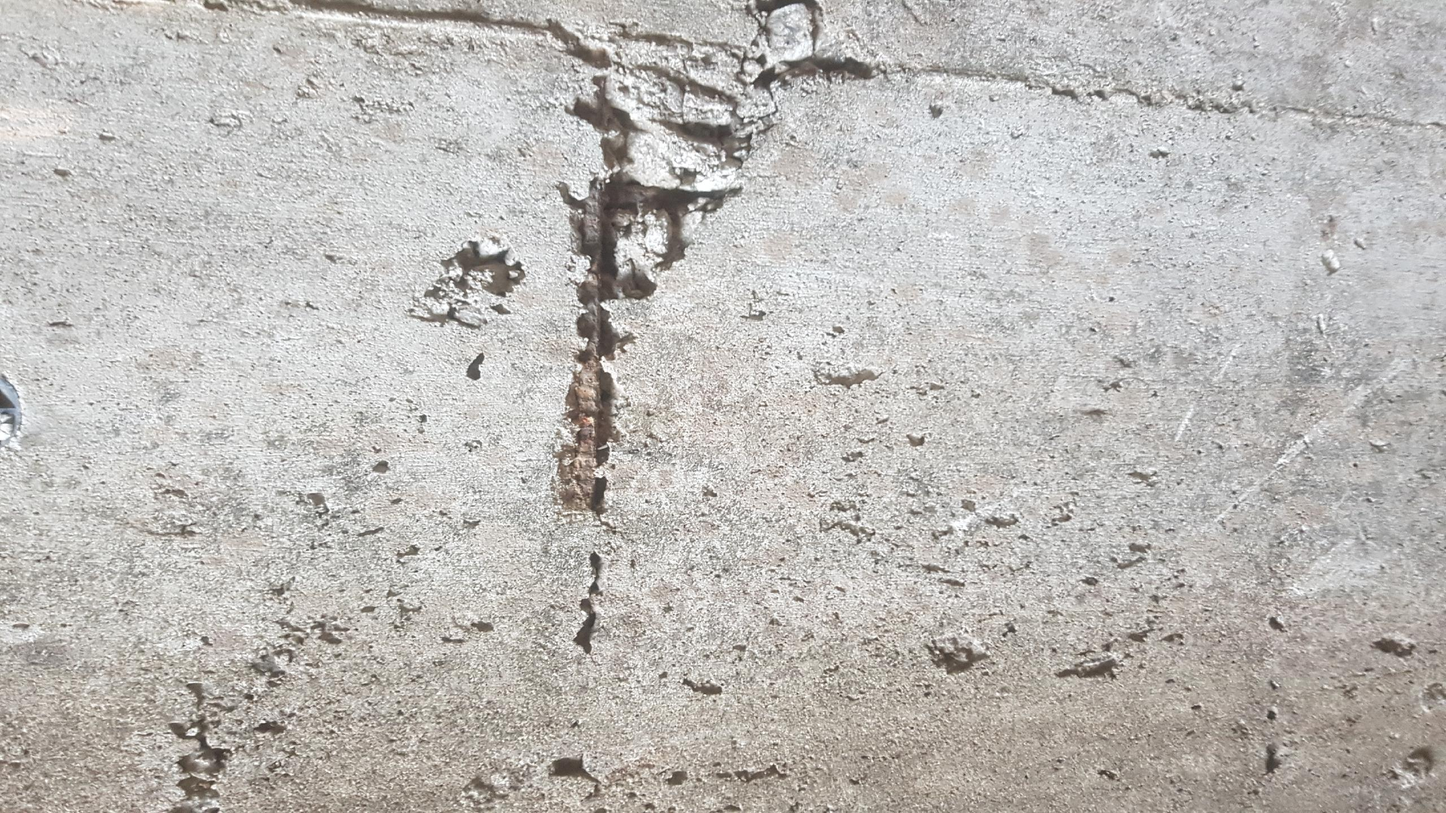crack: (553, 182, 734, 523)
